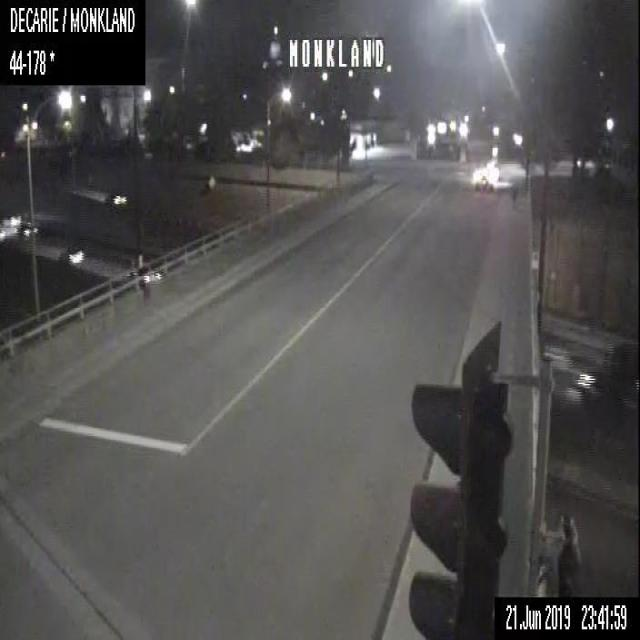vehicle: (576, 359, 639, 409), (56, 242, 85, 266), (471, 164, 495, 191), (106, 189, 129, 208), (15, 219, 38, 235)
